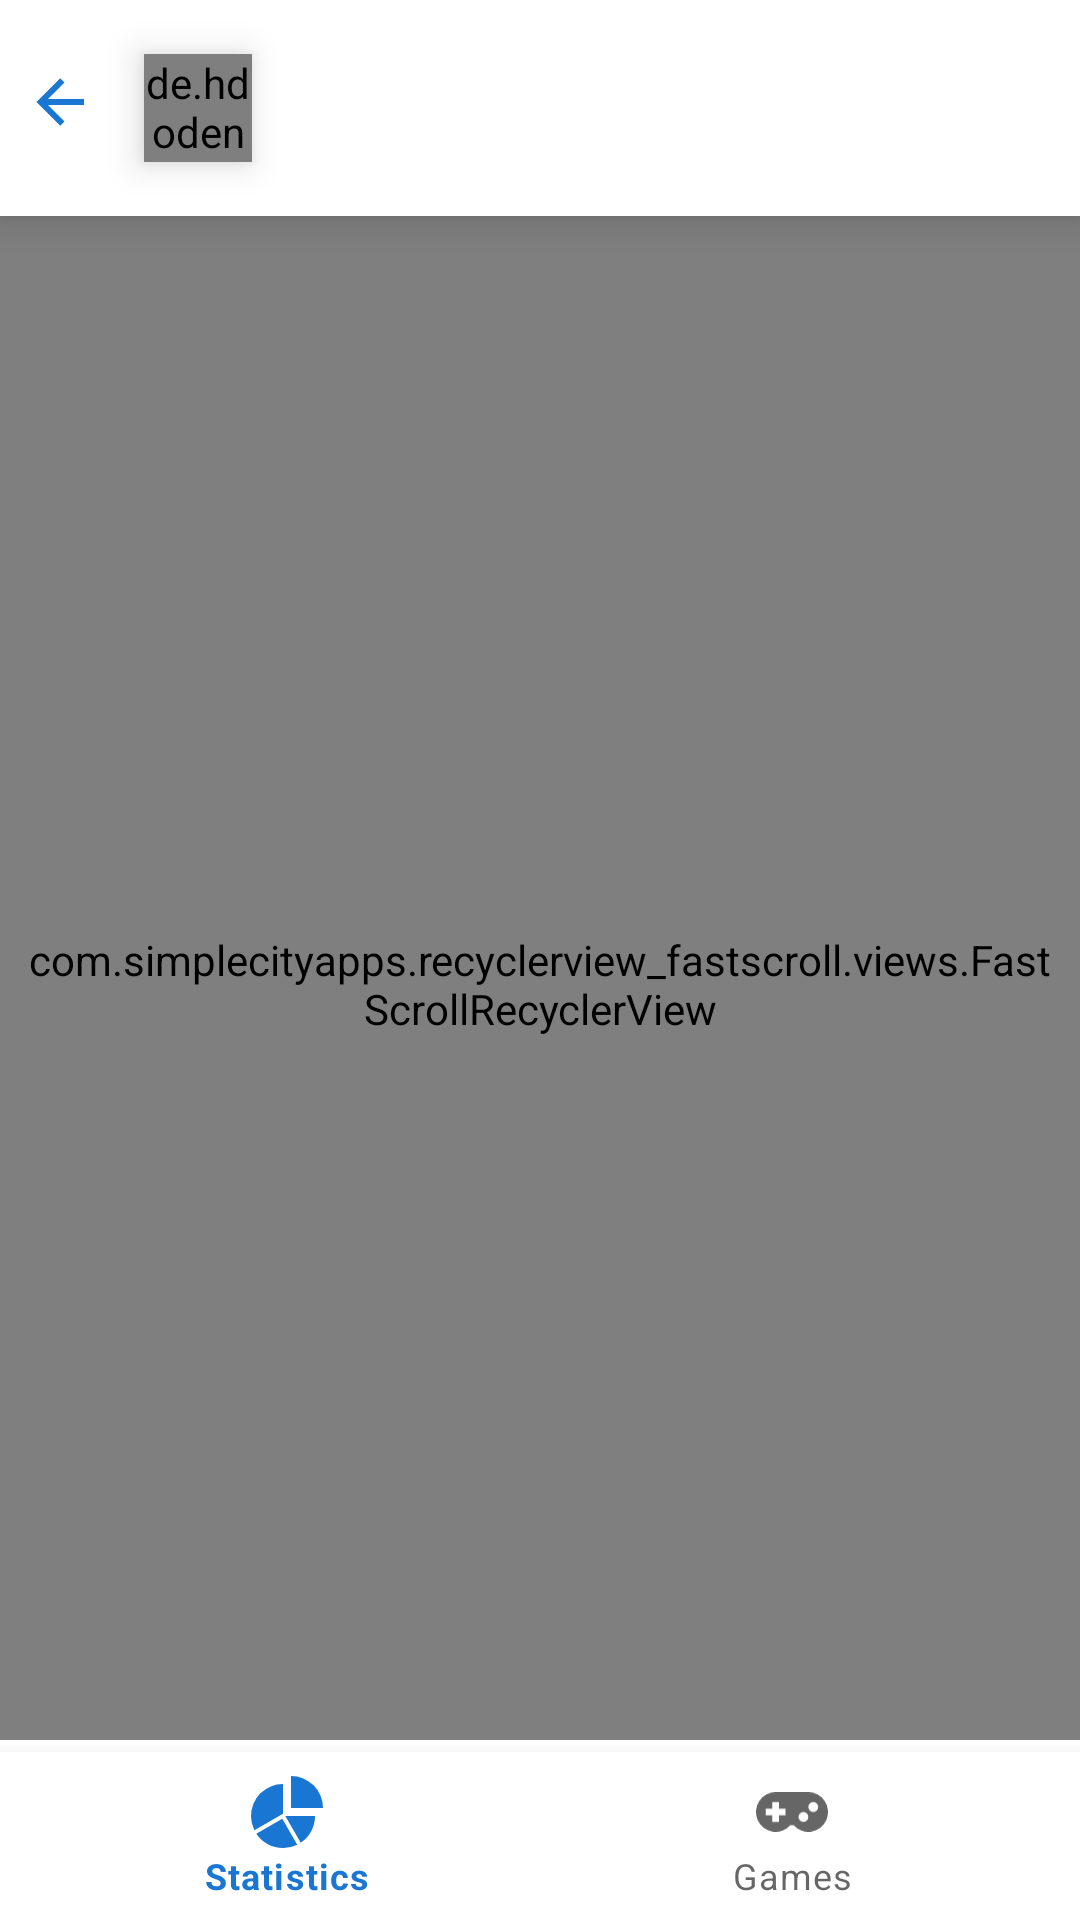

Where to tap for icons on this 1080×1920 app screen, as point (x, y):
arrow left: point (60, 102)
